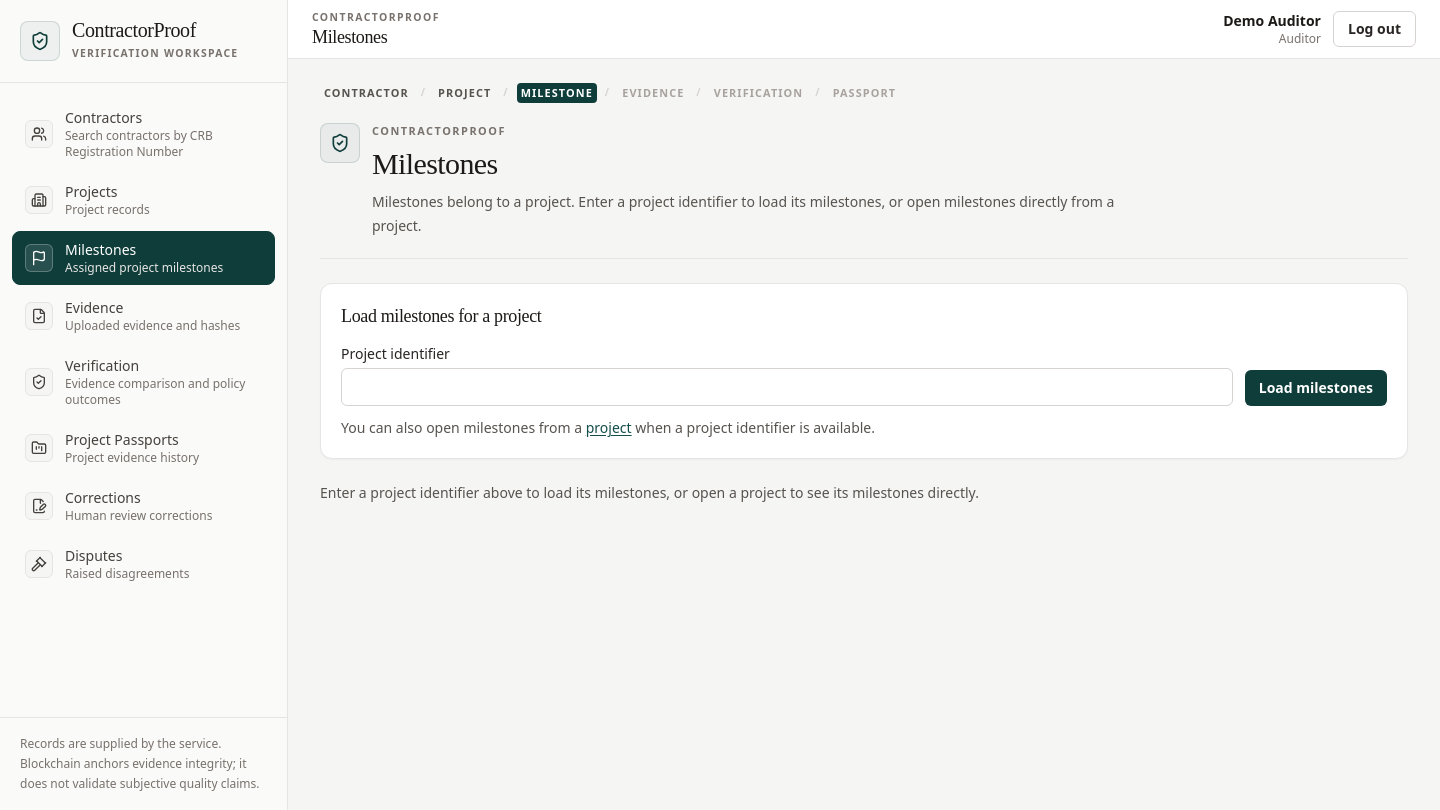
Test: milestones › shows an empty state
Type "p1" into the field labelled "Project identifier" at point(787, 388), box left=341, top=368, right=1233, bottom=406
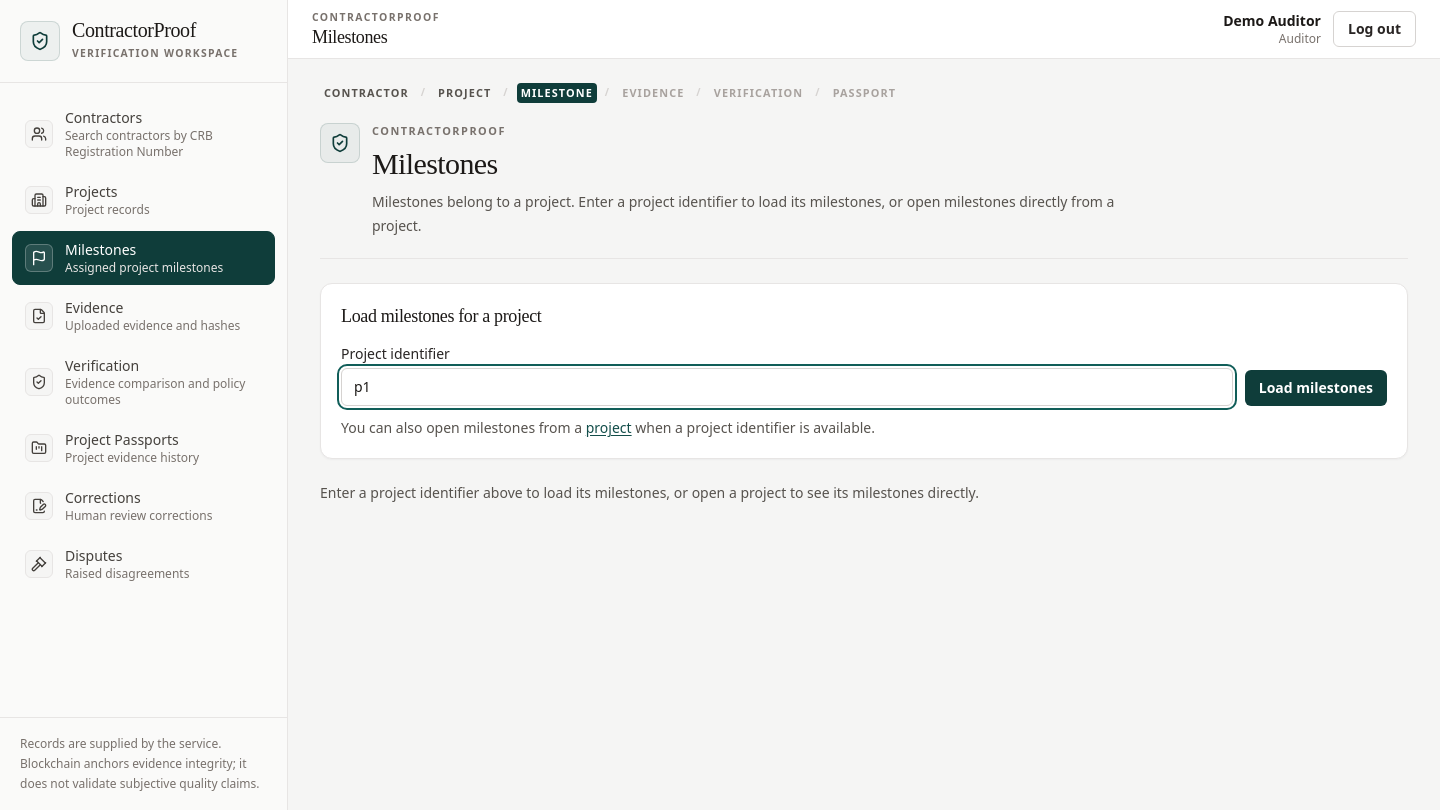
Click the button "Load milestones" at point(1316, 388), box left=1245, top=370, right=1387, bottom=406
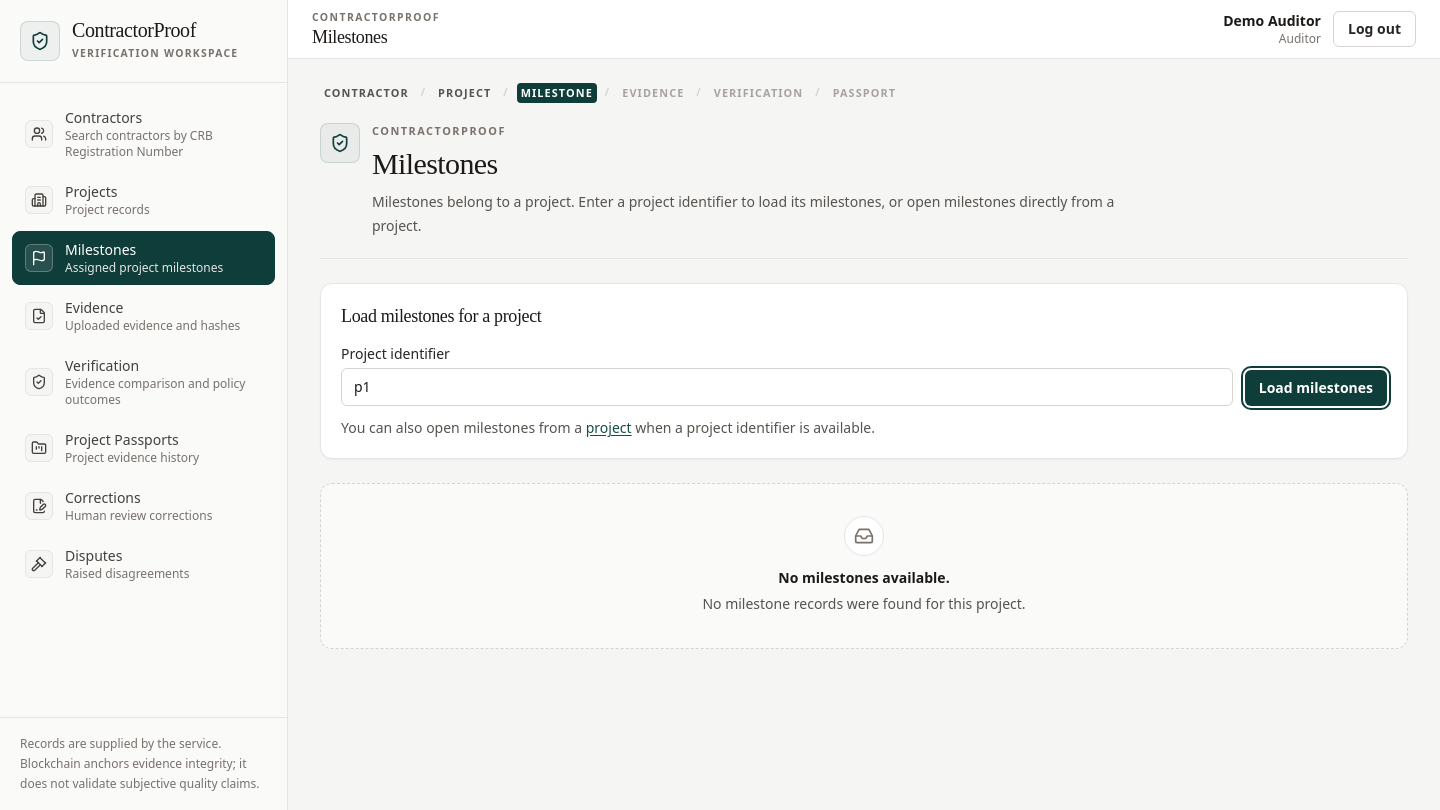
Expected: the text "No milestones available." is shown, left=778, top=568, right=950, bottom=588
